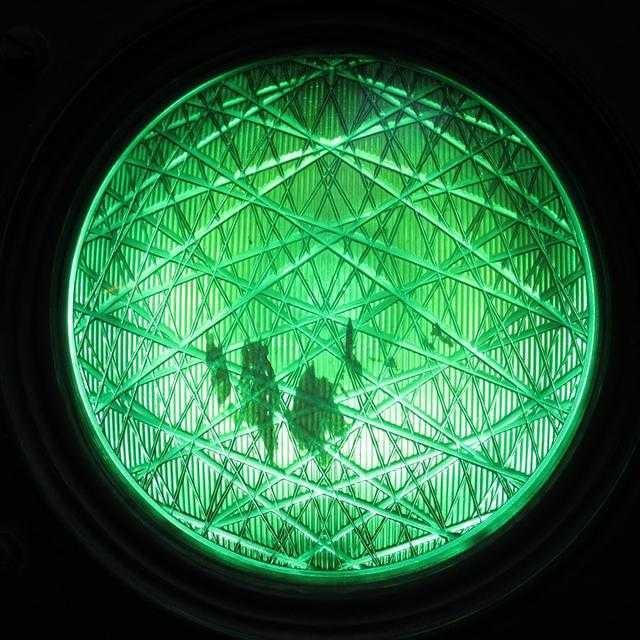Traffic Light -Green-: (8, 1, 640, 640)
